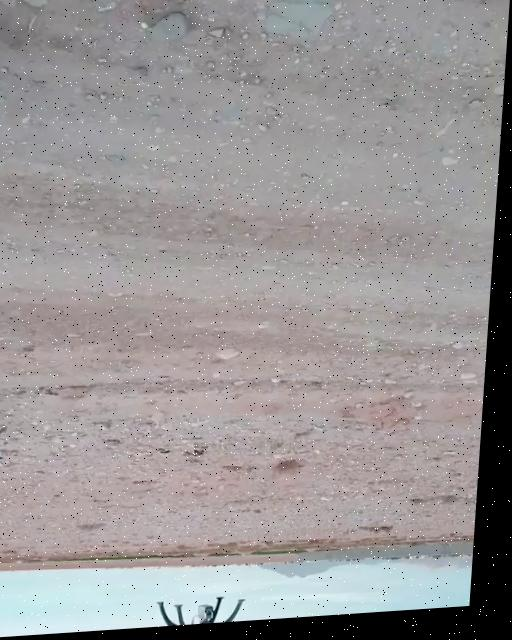drone: (159, 599, 261, 630)
